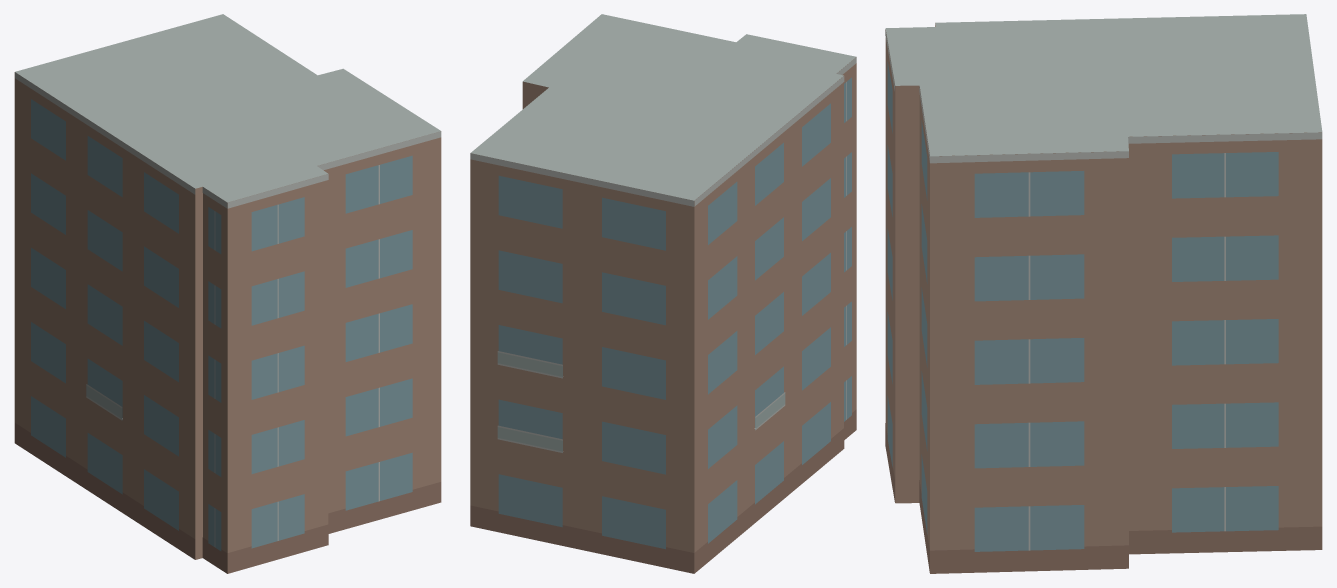
Rendered from survey-upis-32705023.glb.
3 renders of one model, left to right at view 1: azimuth 30°, elevation 25°; view 2: azimuth 150°, elevation 25°; view 3: azimuth 270°, elevation 25°, orthographic. The views are drawn at different scales.
Parts seen in each view (by area): view 1: survey-upis-32705023.tmp; view 2: survey-upis-32705023.tmp; view 3: survey-upis-32705023.tmp.
Part boxes in pixels (x1=…): survey-upis-32705023.tmp: x1=14, y1=14, x2=441, y2=573; survey-upis-32705023.tmp: x1=470, y1=14, x2=856, y2=573; survey-upis-32705023.tmp: x1=885, y1=14, x2=1322, y2=573.
Size of the model in its own units: 10.69 by 14.6 by 13.86.
